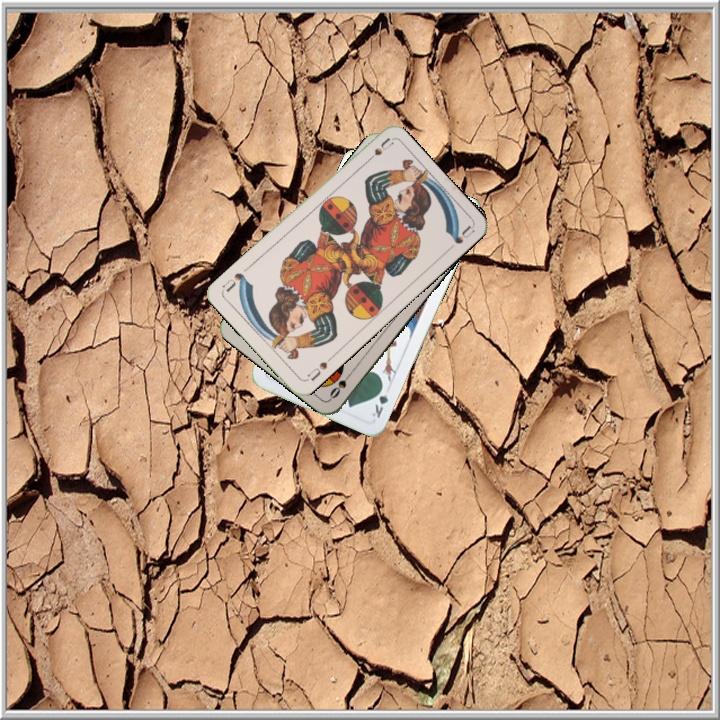GK: (367, 381, 392, 420)
SO: (325, 367, 355, 402)
SU: (360, 134, 395, 167), (303, 352, 335, 384)
